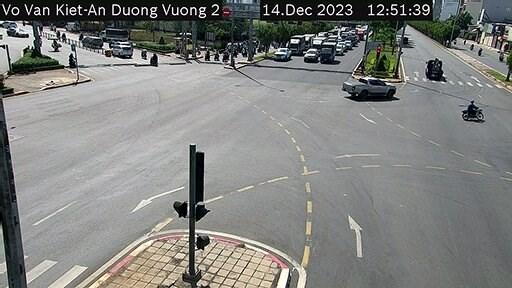car: (344, 71, 401, 101)
motorbike: (457, 102, 488, 126)
truck: (322, 42, 337, 62)
